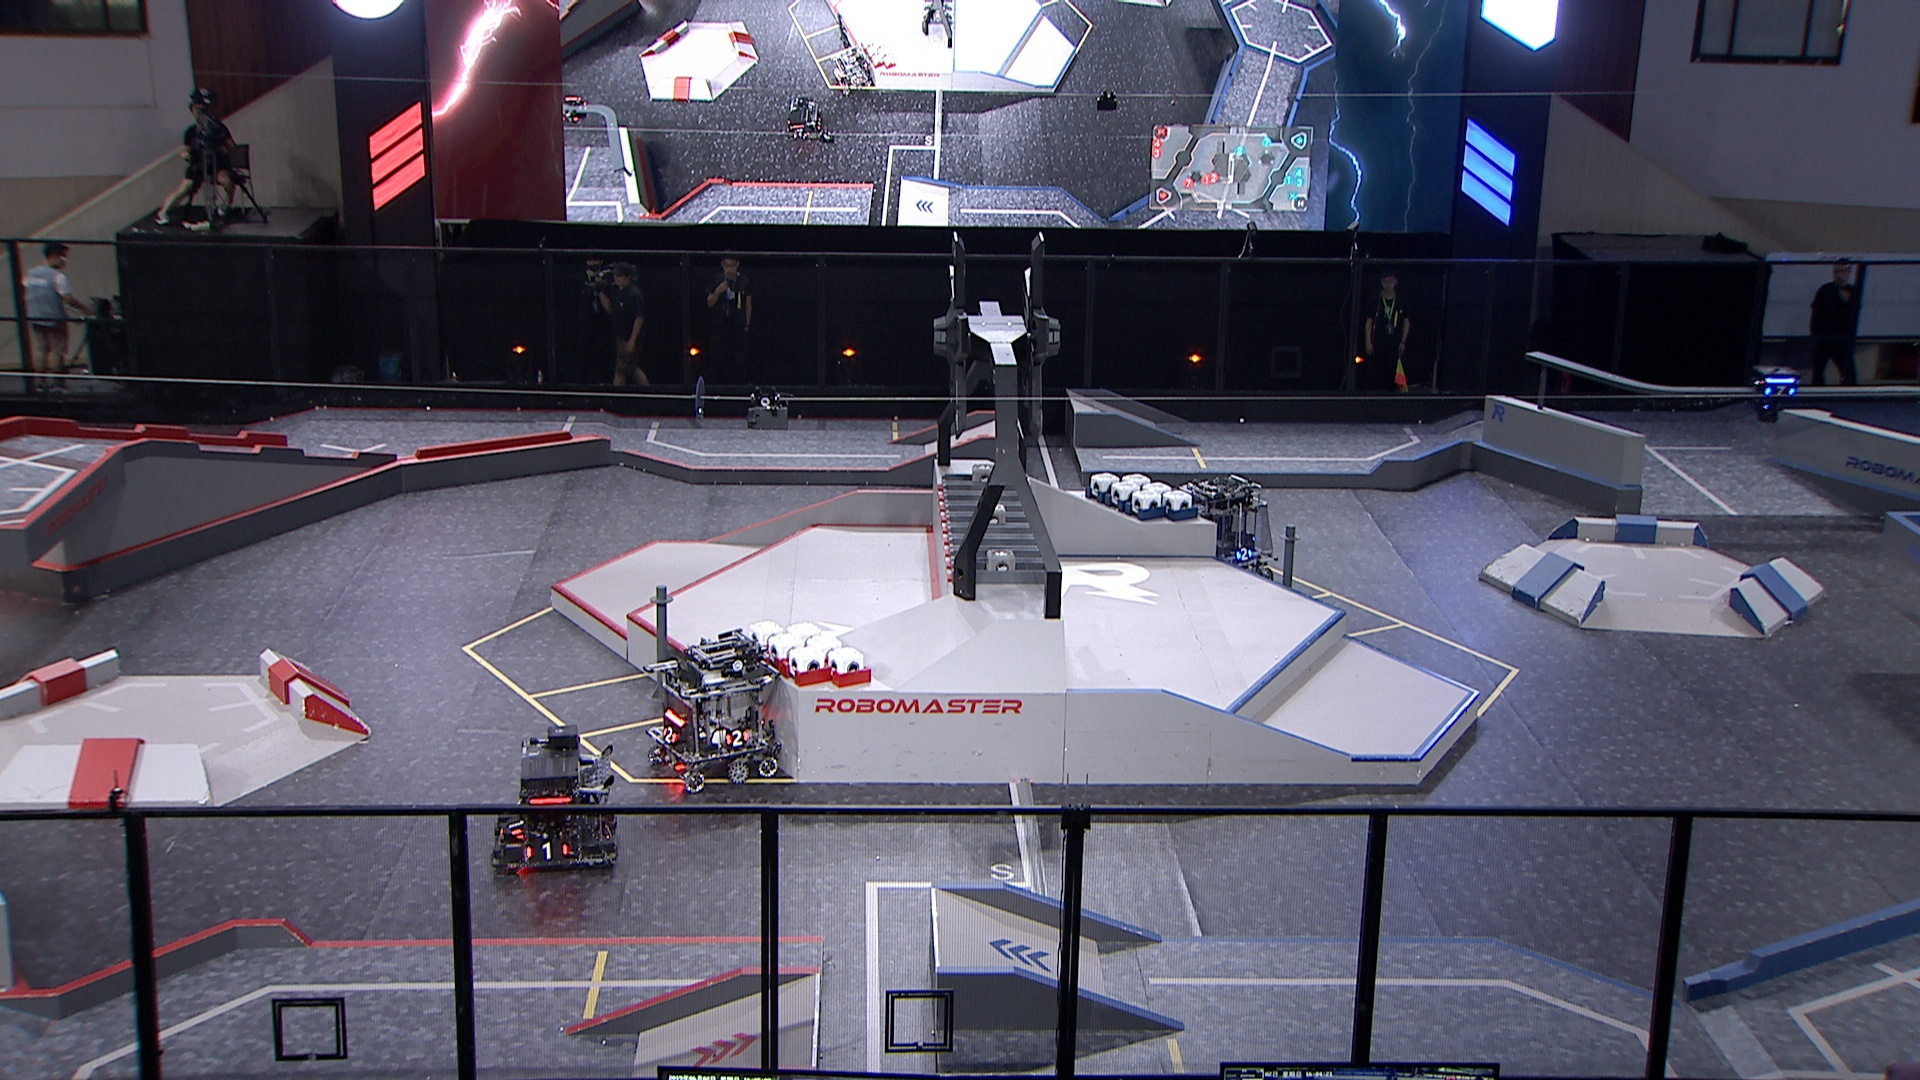armor: (524, 841, 571, 862), (723, 731, 752, 749), (505, 816, 527, 839), (1764, 385, 1795, 400), (661, 727, 679, 745), (603, 822, 615, 845)
car: (646, 626, 785, 796), (491, 723, 621, 872), (1179, 475, 1280, 585)
ignore: (836, 49, 872, 94), (785, 95, 822, 136), (564, 96, 589, 125)
watcher: (1751, 363, 1803, 425)
